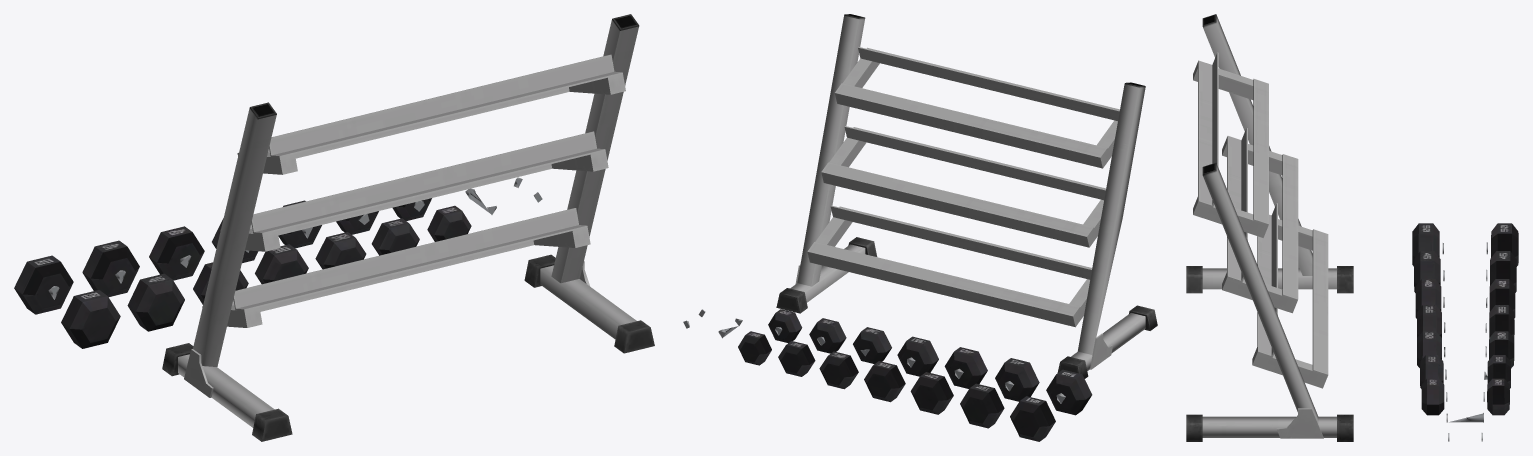
The model's file is weight-set.lod0.glb.
3 views of the same model, side by side, from view 1: azimuth 30°, elevation 25°; view 2: azimuth 150°, elevation 25°; view 3: azimuth 270°, elevation 25° (orthographic). The views are drawn at different scales.
Visible parts, largest first — view 1: defaultMaterial (×2); view 2: defaultMaterial (×2); view 3: defaultMaterial (×2).
Boxes of the visible parts, x1,y1,x2,y2 form: defaultMaterial (×2): (14,14,654,441); defaultMaterial (×2): (683,14,1157,441); defaultMaterial (×2): (1186,14,1518,441).
Bounding box in the file's own units: 1.96 × 1.22 × 1.37.
2 materials, 2 textured.
